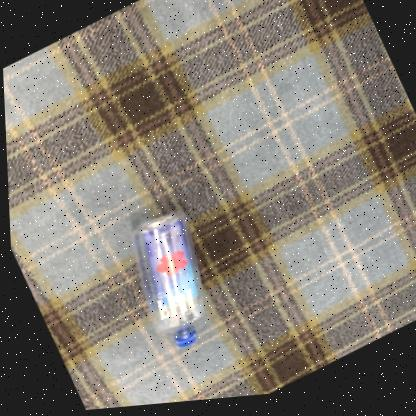Plastic: (130, 213, 202, 349)
